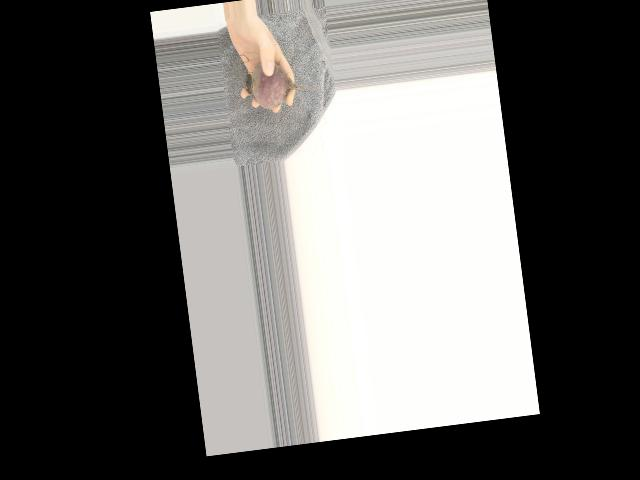beet: (243, 54, 326, 112)
